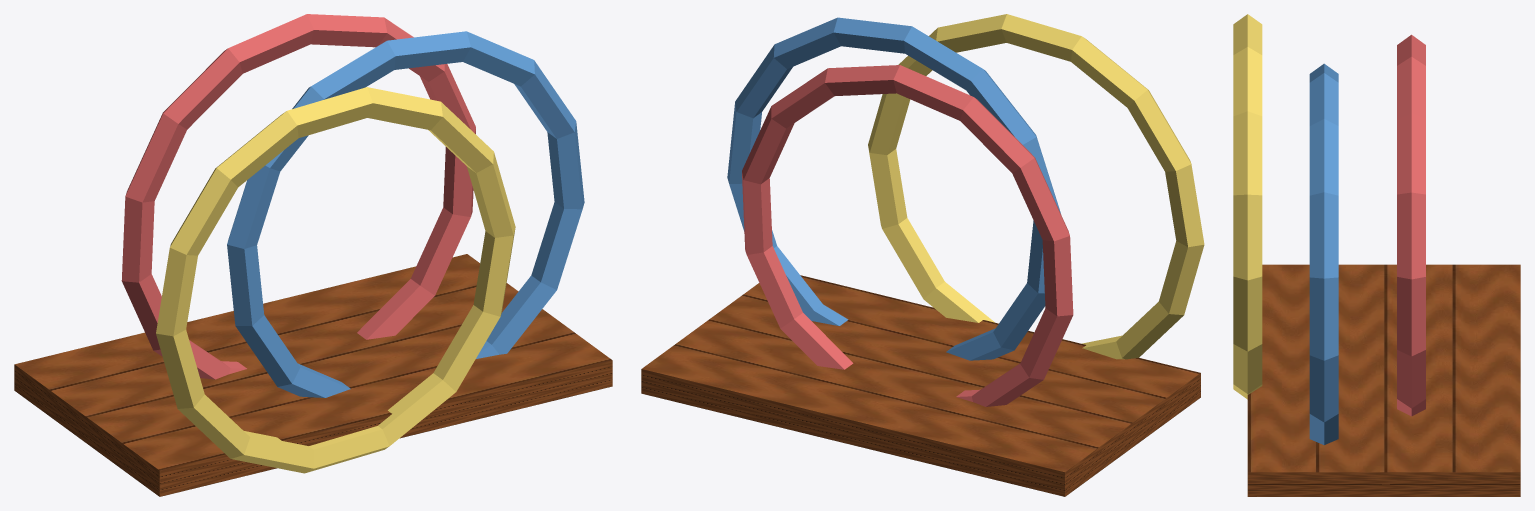
The model's file is travelling-circus-and-big-top-juggling-rings-dd378889__36249.glb.
3 renders of one model, left to right at view 1: azimuth 30°, elevation 25°; view 2: azimuth 150°, elevation 25°; view 3: azimuth 270°, elevation 25°, orthographic. The views are drawn at different scales.
Parts seen in each view (by area): view 1: juggling-rings-timber, juggling-rings-gold, juggling-rings-azure, juggling-rings-stripe; view 2: juggling-rings-timber, juggling-rings-stripe, juggling-rings-gold, juggling-rings-azure; view 3: juggling-rings-timber, juggling-rings-azure, juggling-rings-gold, juggling-rings-stripe.
Boxes of the visible parts, <box> form: juggling-rings-timber: <box>14,254,612,496</box>; juggling-rings-gold: <box>156,87,515,473</box>; juggling-rings-azure: <box>227,31,584,397</box>; juggling-rings-stripe: <box>121,14,475,379</box>; juggling-rings-timber: <box>641,275,1200,496</box>; juggling-rings-stripe: <box>742,65,1073,406</box>; juggling-rings-gold: <box>868,14,1204,359</box>; juggling-rings-azure: <box>727,17,1060,360</box>; juggling-rings-timber: <box>1247,264,1520,496</box>; juggling-rings-azure: <box>1309,63,1338,445</box>; juggling-rings-gold: <box>1233,14,1262,399</box>; juggling-rings-stripe: <box>1397,34,1425,416</box>.
Size of the model in its own units: 0.933 by 0.7153 by 0.5267.
4 materials, 1 textured.
